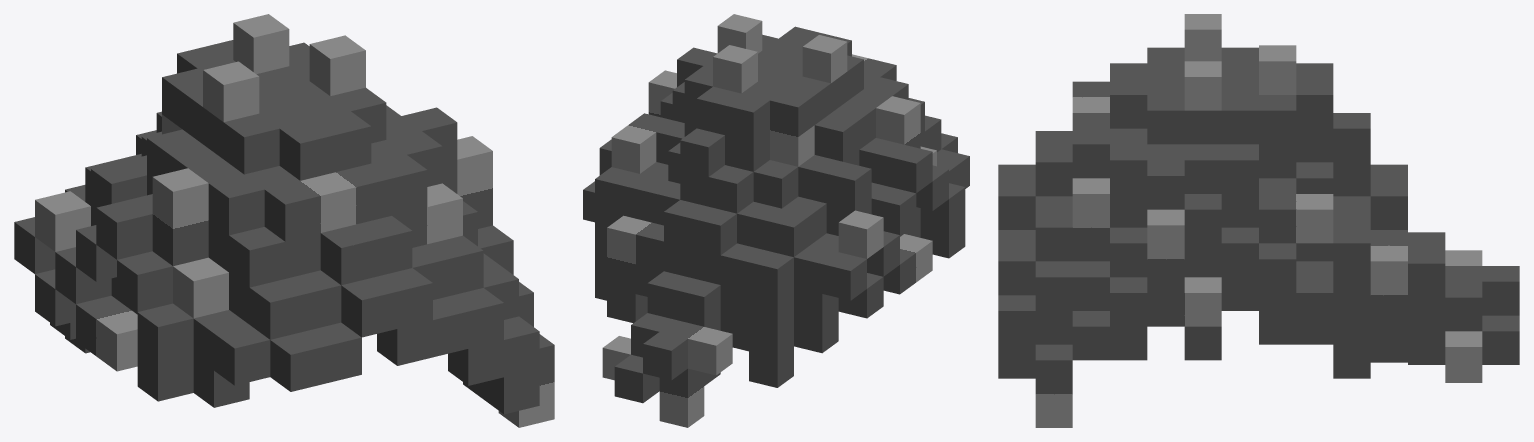
The model's file is wlos4.dae.
The picture shows the model from 3 angles, left to right: view 1: azimuth 30°, elevation 25°; view 2: azimuth 150°, elevation 25°; view 3: azimuth 270°, elevation 25°; orthographic projection. The views are drawn at different scales.
Parts seen in each view (by area): view 1: Content; view 2: Content; view 3: Content.
Boxes of the visible parts, box(x1,y1,x2,y2) form: Content: box(14, 14, 554, 427); Content: box(583, 14, 969, 427); Content: box(998, 14, 1519, 427).
Bounding box in the file's own units: 10 × 10 × 14.
1 material, 1 textured.
